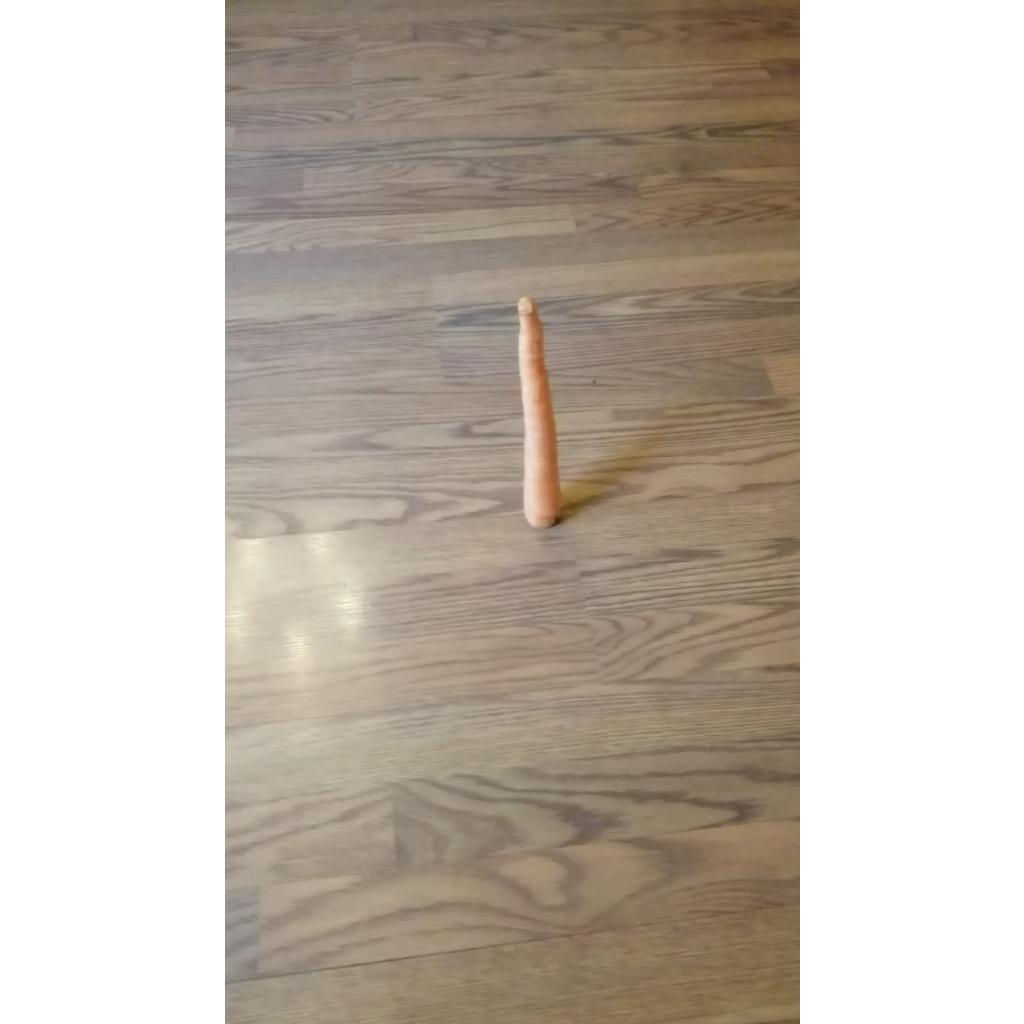carrot: (518, 298, 560, 528)
